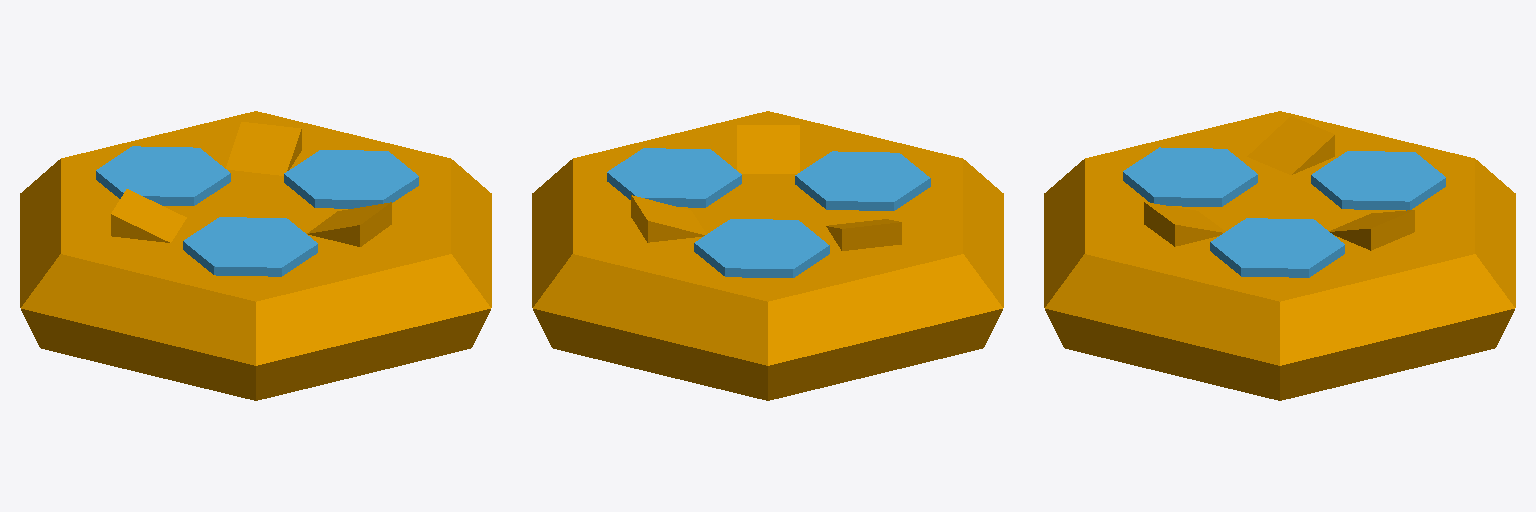
URDF robot description (doughclump):
<?xml version="1.0"?>
<robot name="doughclump">
  <link name="doughclump">
    <inertial>
        <origin rpy="0 0 0" xyz="0 0 0"/>
        <mass value="0.001"/>
        <inertia ixx="3.6e-6" ixy="0" ixz="0" iyy="3.6e-6" iyz="0" izz="3.6e-6"/>
    </inertial>
    <visual>
      <geometry>
        <mesh filename="./cookie.obj"/>
      </geometry>
    </visual>
    <collision>
      <geometry>
        <mesh filename="./cookie.obj"/>
      </geometry>
    </collision>
  </link>
  <link name="sprinkle">
    <inertial>
        <origin rpy="0 0 0" xyz="0 0 0"/>
        <mass value="0.001"/>
        <inertia ixx="3.6e-7" ixy="0" ixz="0" iyy="3.6e-7" iyz="0" izz="3.6e-7"/>
    </inertial>
    <visual>
      <geometry>
        <mesh filename="./sugarsprinkle.obj"/>
      </geometry>
    </visual>
    <collision>
      <geometry>
        <mesh filename="./sugarsprinkle.obj"/>
      </geometry>
    </collision>
  </link>
  <joint name="sprinkle" type="fixed">
    <parent link="doughclump"/>
    <child link="sprinkle"/>
    <origin rpy="0 0 0" xyz="0 0 0"/>
  </joint>
</robot>

--- What the picture shows (computed from the rendered views, not written in the file) ---
Views: 3 orthographic renders of the robot side by side, from view 1: azimuth 30°, elevation 25°; view 2: azimuth 150°, elevation 25°; view 3: azimuth 270°, elevation 25°.
Model doughclump with 2 links and 1 joints (1 fixed), rooted at doughclump, posed all joints at 0.
Visible links, largest first — view 1: doughclump, sprinkle; view 2: doughclump, sprinkle; view 3: doughclump, sprinkle.
Link boxes in pixels (<box>): doughclump: <box>20,111,491,400</box>; sprinkle: <box>96,146,418,276</box>; doughclump: <box>532,111,1003,400</box>; sprinkle: <box>607,148,930,277</box>; doughclump: <box>1044,111,1515,400</box>; sprinkle: <box>1123,147,1445,277</box>.
Size in the robot's own frame: 0.0549 by 0.0476 by 0.0124 metres.
2 mesh visuals loaded from 2 distinct referenced files (2 OBJ).
